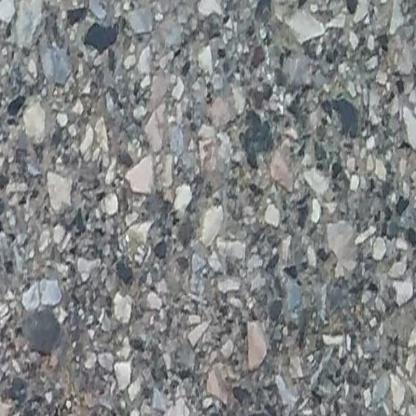Cracks: (1, 409, 89, 416)
